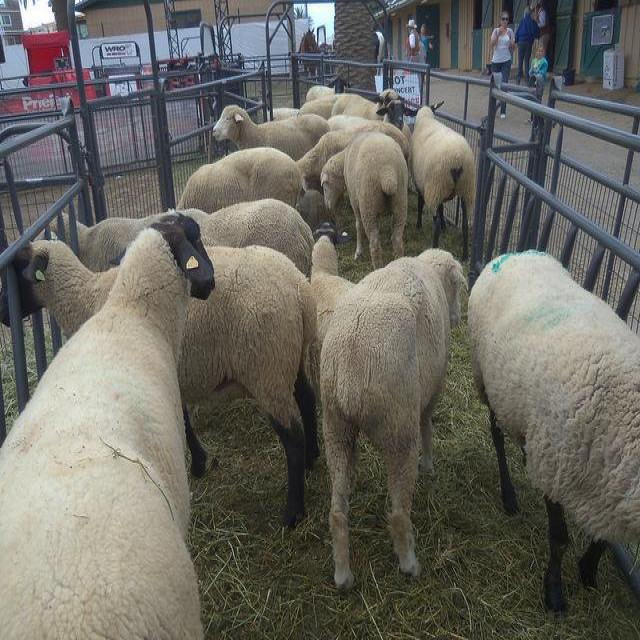Sheep: (0, 212, 220, 633), (2, 239, 322, 525), (466, 247, 639, 613), (319, 243, 474, 597), (320, 131, 409, 265), (402, 101, 476, 258), (176, 198, 316, 278), (177, 147, 304, 212), (309, 222, 353, 406), (211, 105, 332, 163), (51, 215, 135, 273)
